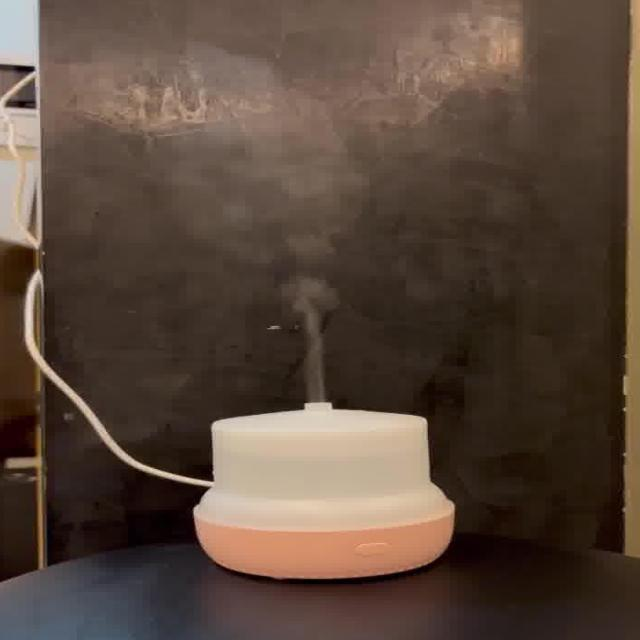fire: (186, 66, 337, 397)
